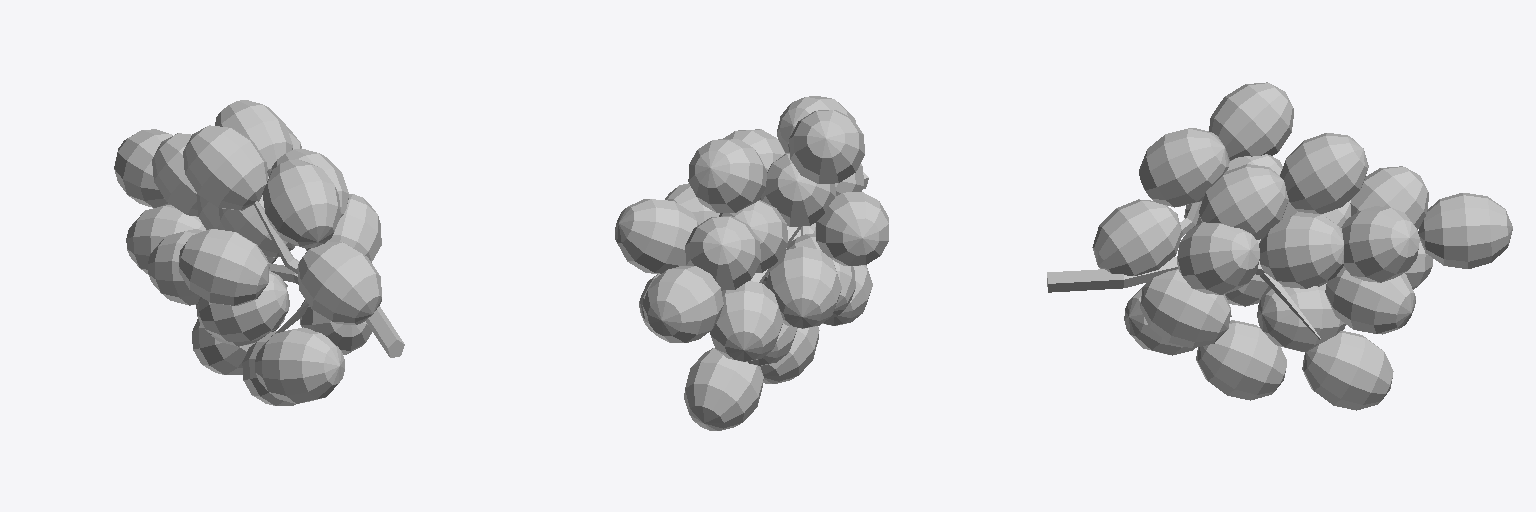
The model's file is grape1.obj.
3 views of the same model, side by side, from view 1: azimuth 30°, elevation 25°; view 2: azimuth 150°, elevation 25°; view 3: azimuth 270°, elevation 25° (orthographic).
Bounding box in the file's own units: 0.1 × 0.1483 × 0.2142.